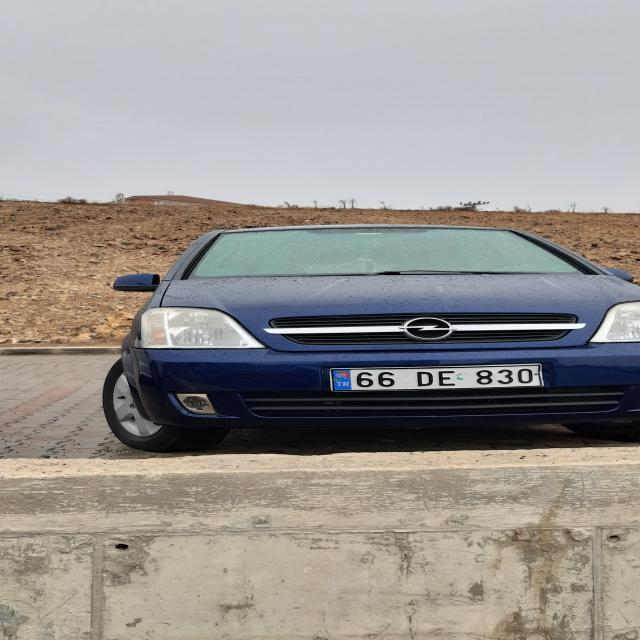plate: (331, 363, 543, 391)
